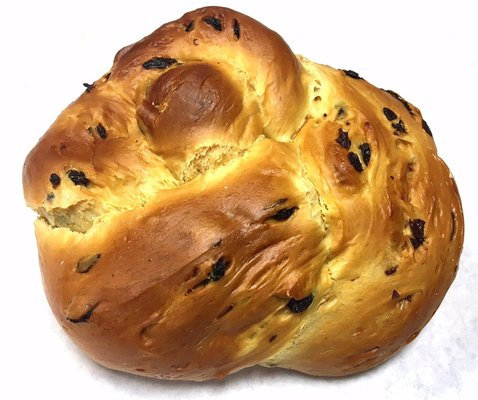sandwich: (17, 3, 462, 388)
